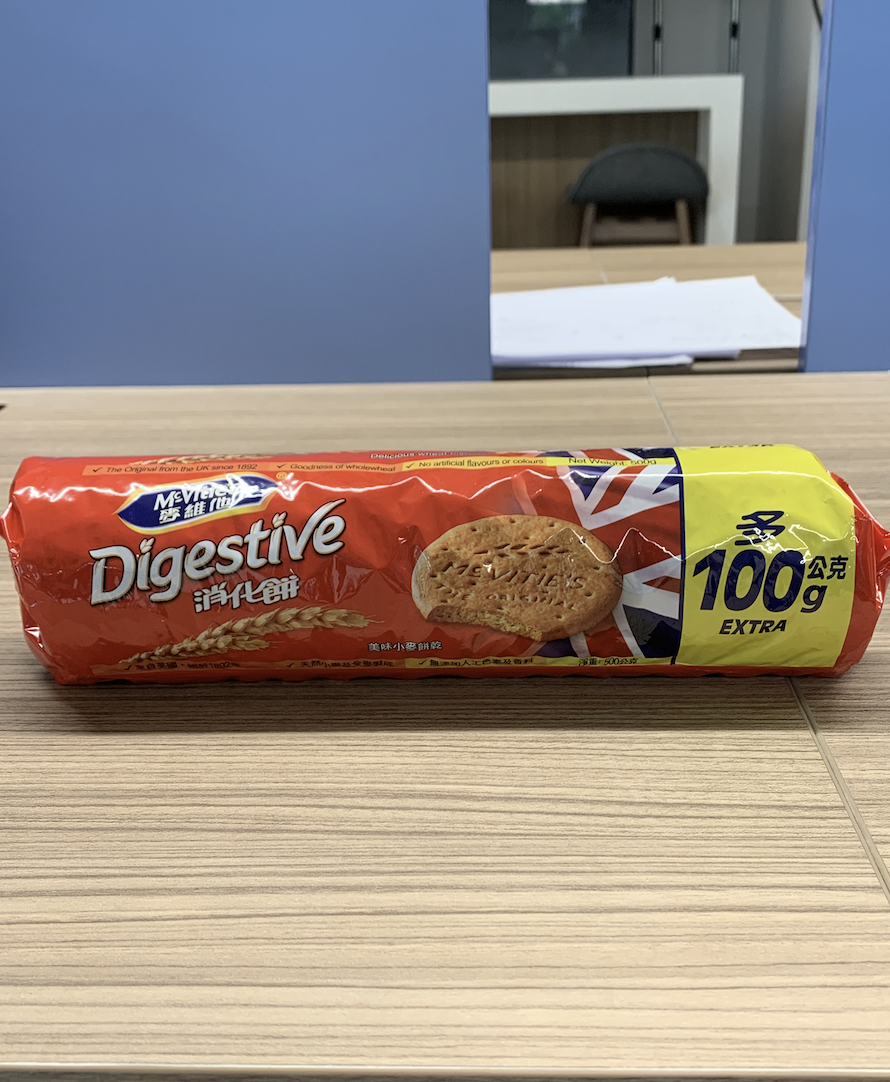cookies_450g: (42, 463, 851, 668)
